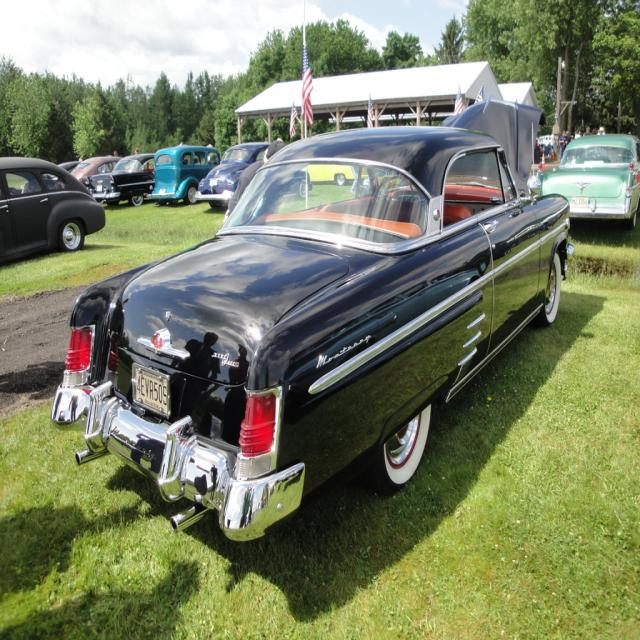car: (53, 126, 576, 497), (540, 122, 639, 228), (0, 152, 99, 255), (193, 135, 279, 204), (140, 146, 224, 202), (86, 146, 151, 204), (68, 152, 120, 202), (56, 159, 81, 175)
